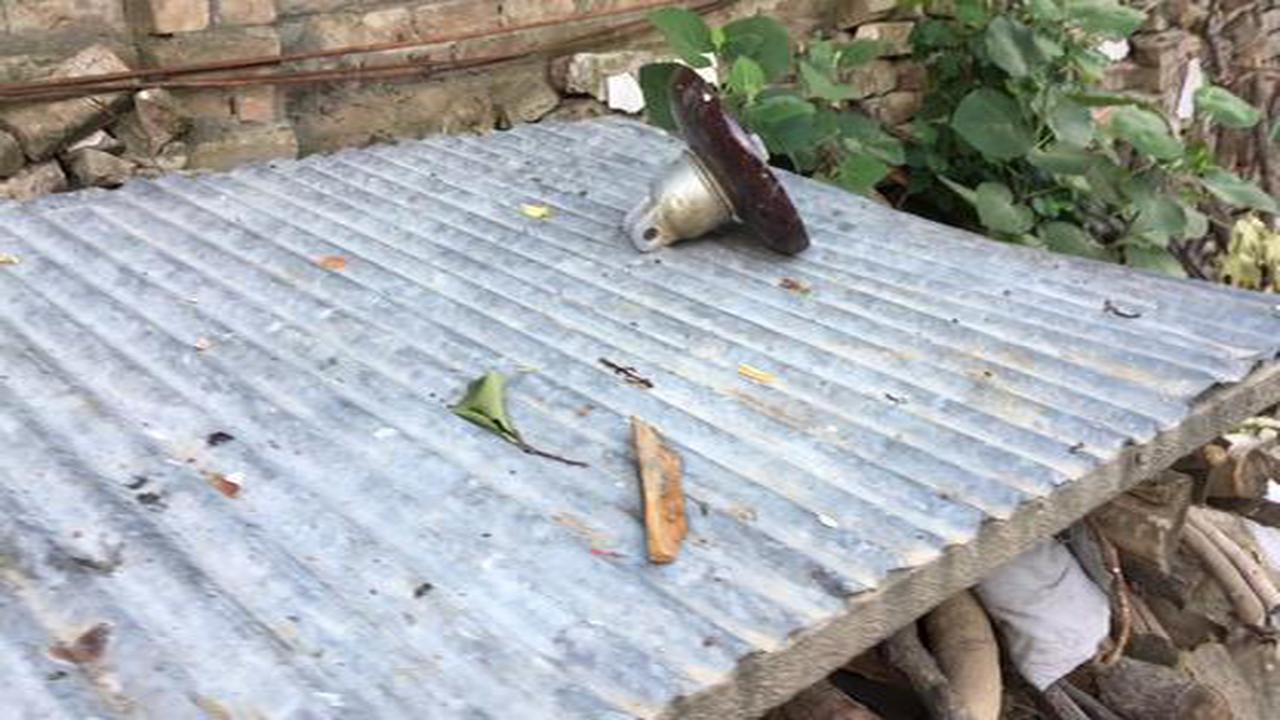insulator_disc: (619, 60, 817, 269)
